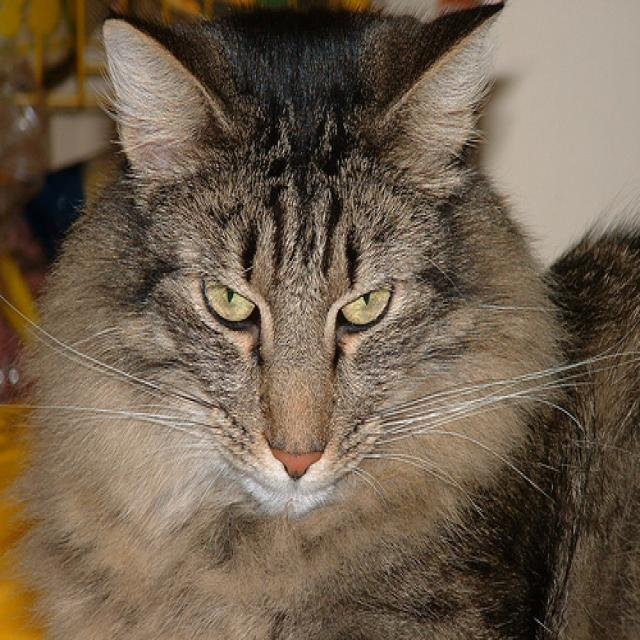left eye: (336, 282, 394, 332)
